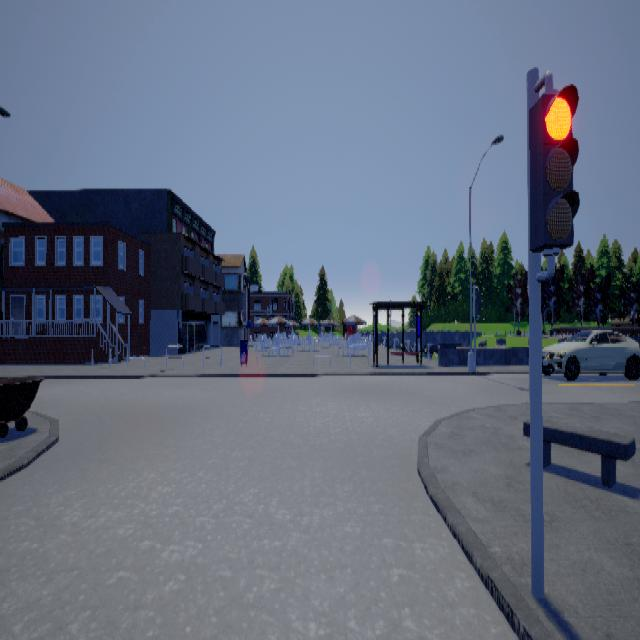red_light: (528, 69, 579, 281)
vehicle: (541, 328, 639, 379)
